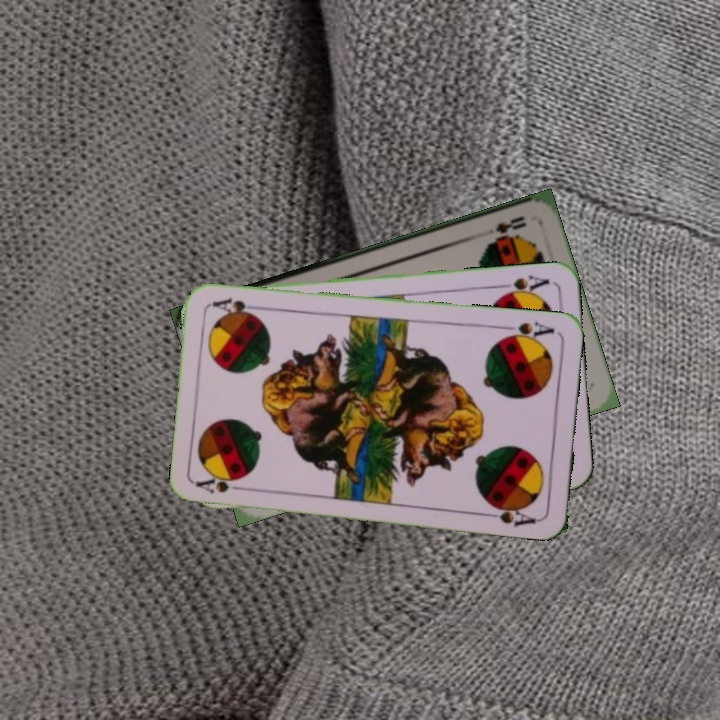SA: (494, 271, 552, 300), (497, 317, 557, 345), (194, 476, 253, 496)
SO: (491, 212, 530, 242)
